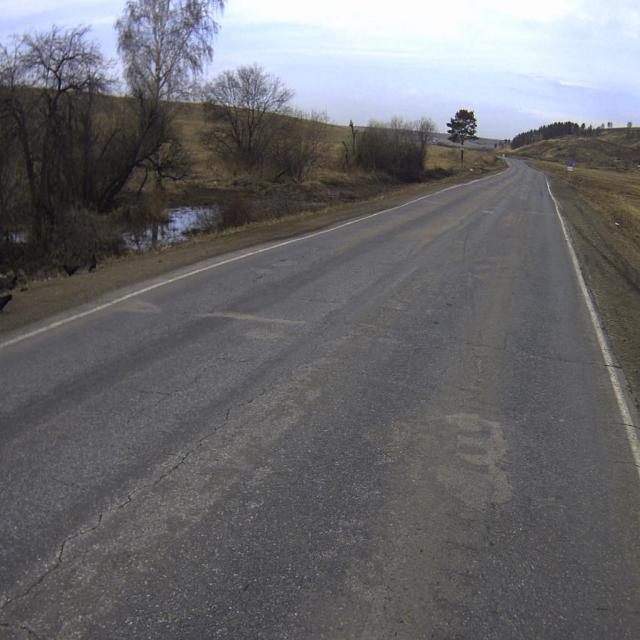road: (0, 157, 640, 639)
